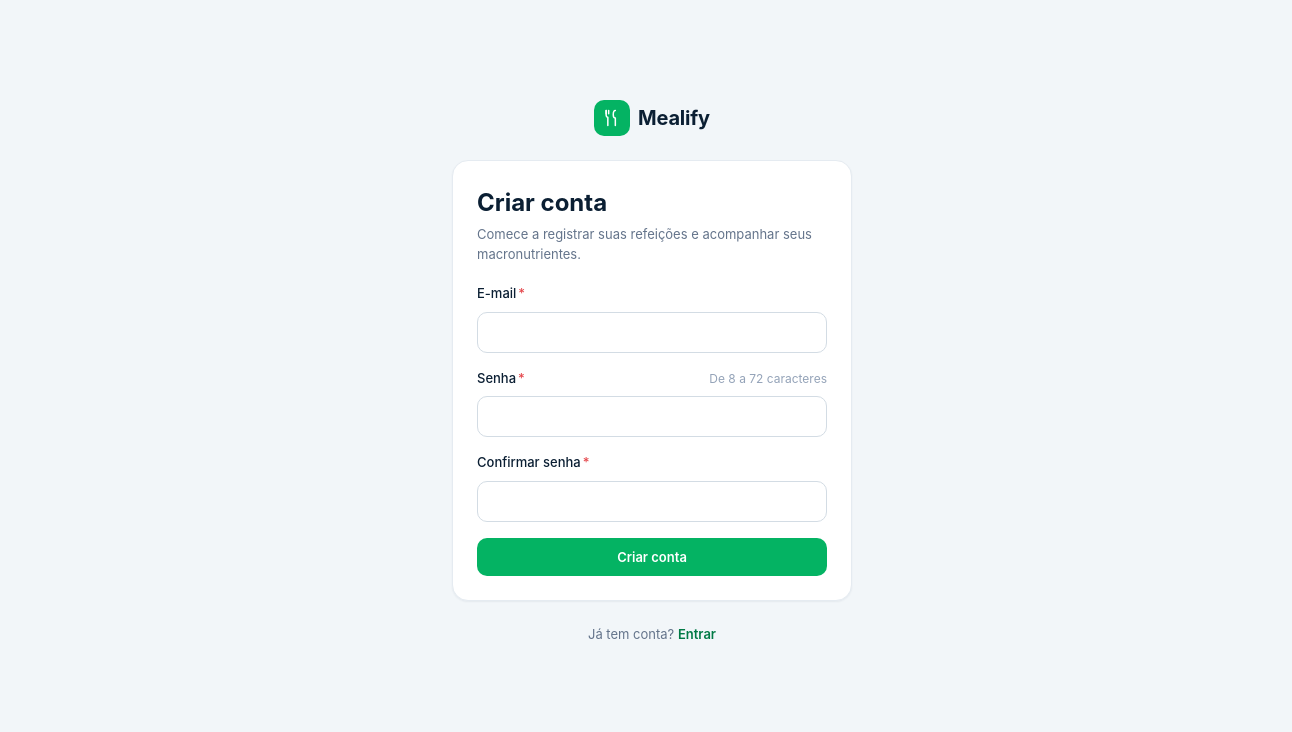
Test: RegisterPage › welcomes the user and goes to the page that asked for the login
Type "ana@example.com" into the field labelled "E-mail*" at (652, 332), box [477,312,827,352]
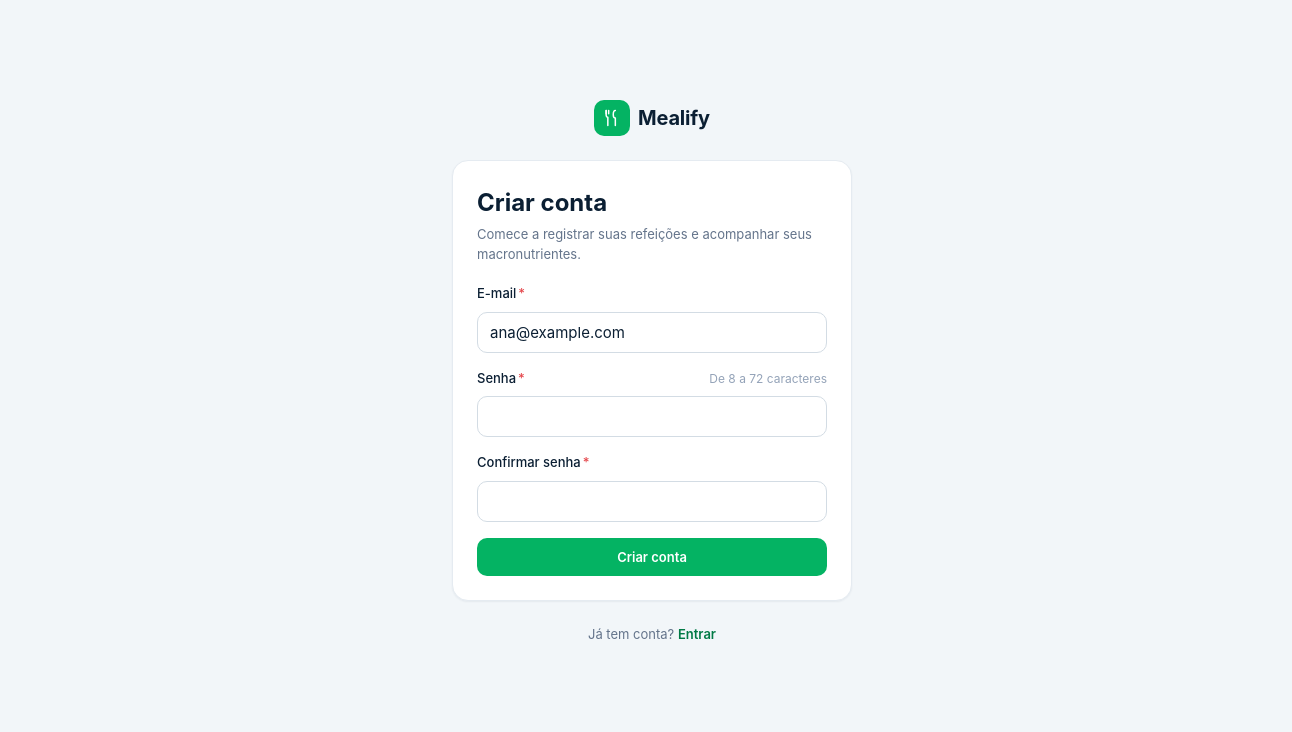
Type "secret pass" into the password field labelled "Senha*" at (652, 416), box [477,396,827,437]
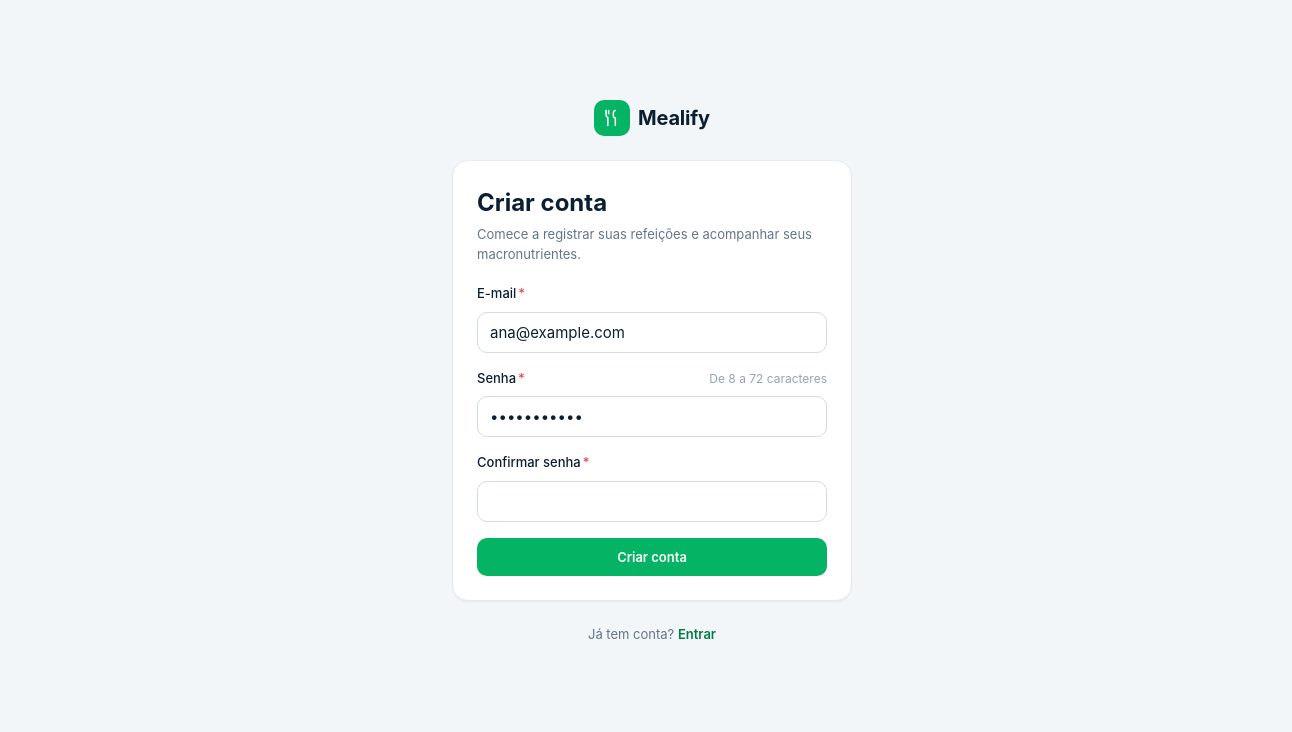
Type "secret pass" into the password field labelled "Confirmar senha*" at (652, 501), box [477,480,827,522]
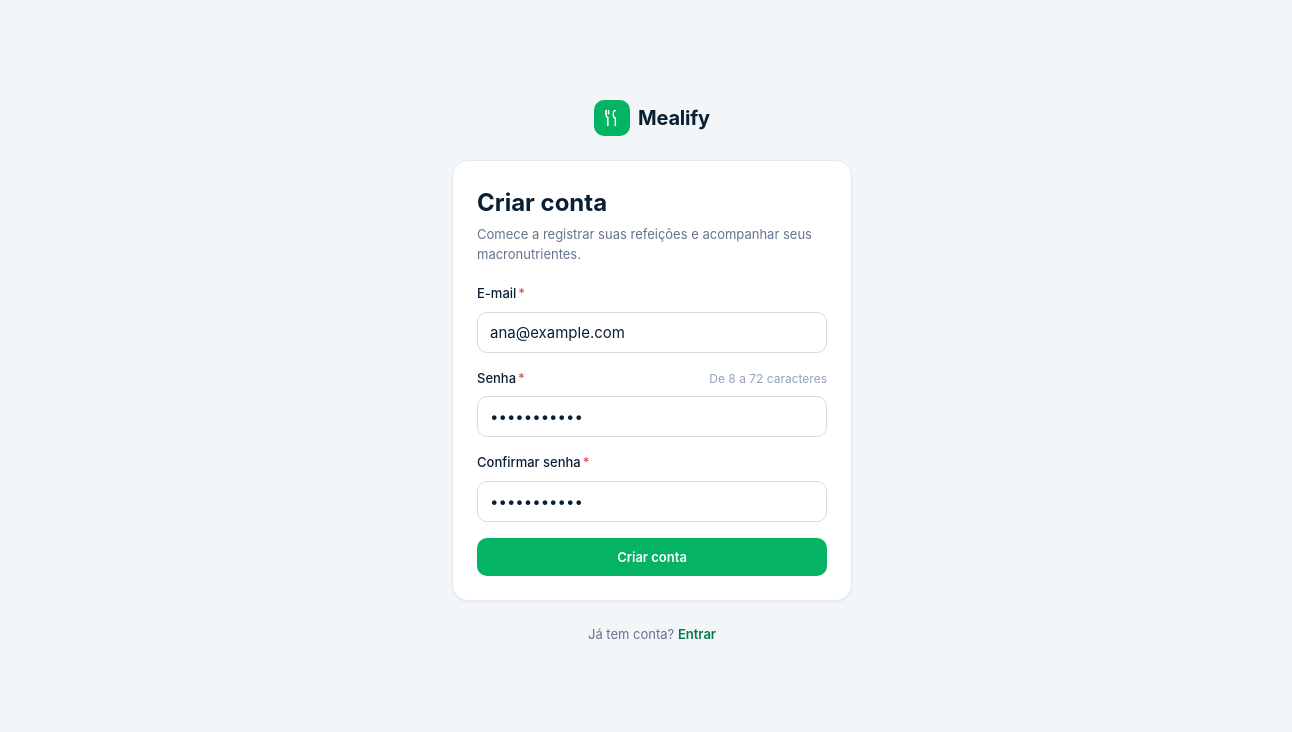
Click the button "Criar conta" at (652, 556), box [477,538,827,576]
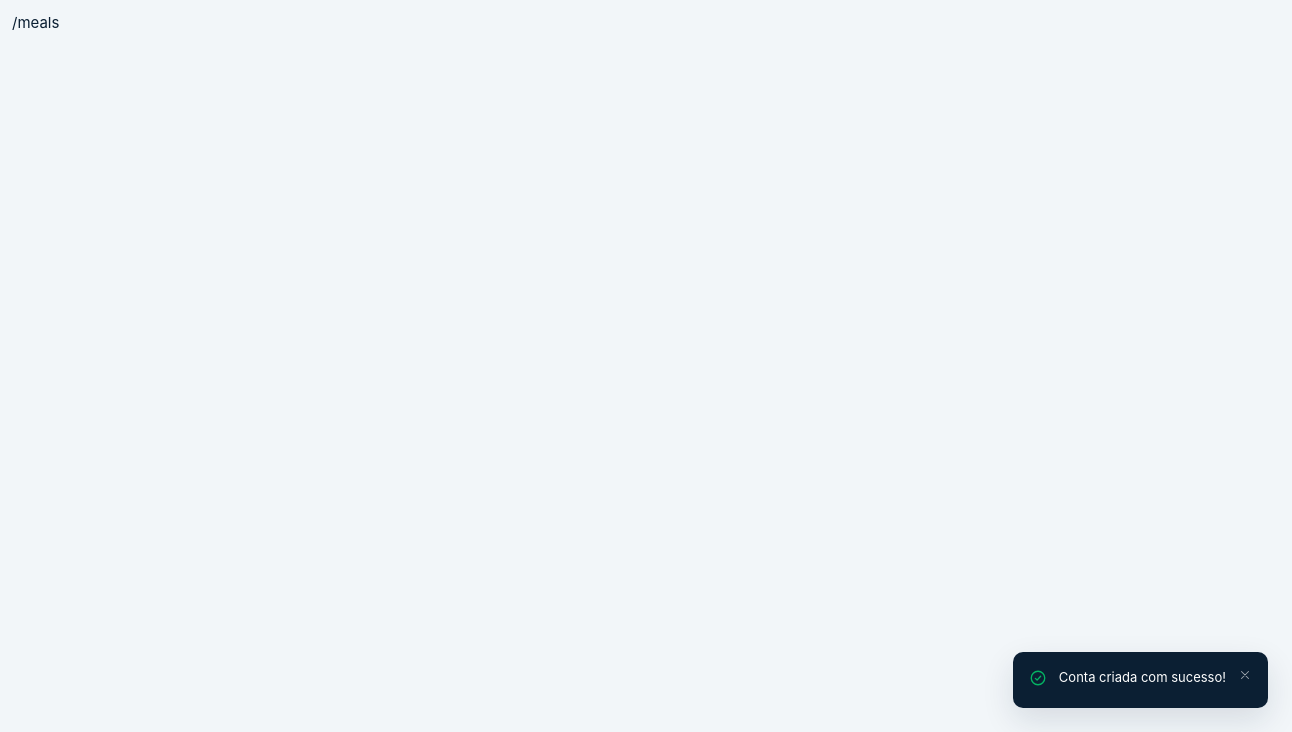
Now the text with test id "location" reads "/meals", box [12,13,59,32]
Now the text "Conta criada com sucesso!" is shown, box [1059,668,1226,687]
